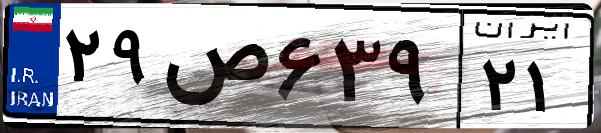1: (525, 38, 570, 115)
2: (57, 26, 110, 100), (475, 38, 525, 113)
3: (330, 28, 385, 110)
6: (270, 28, 330, 110)
9: (385, 28, 445, 110), (110, 28, 158, 98)
ص: (158, 20, 270, 120)
